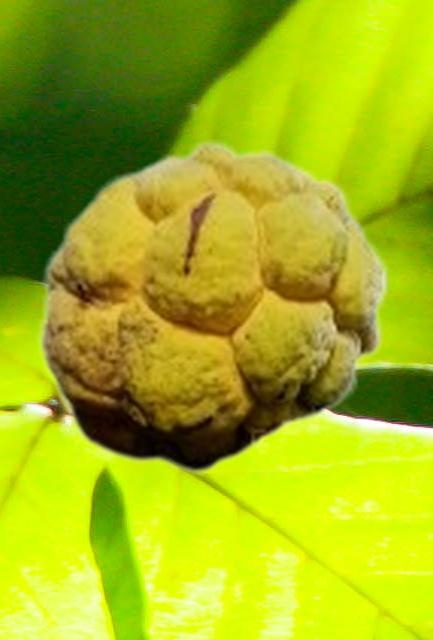atis: (36, 139, 389, 473)
